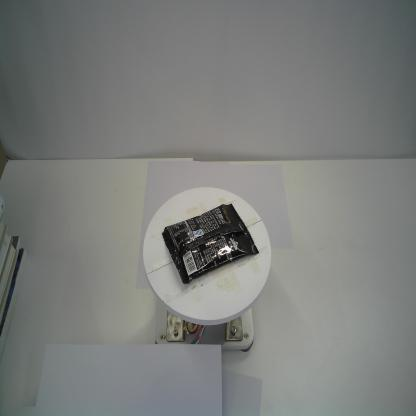Instant Drink: (161, 202, 260, 284)
